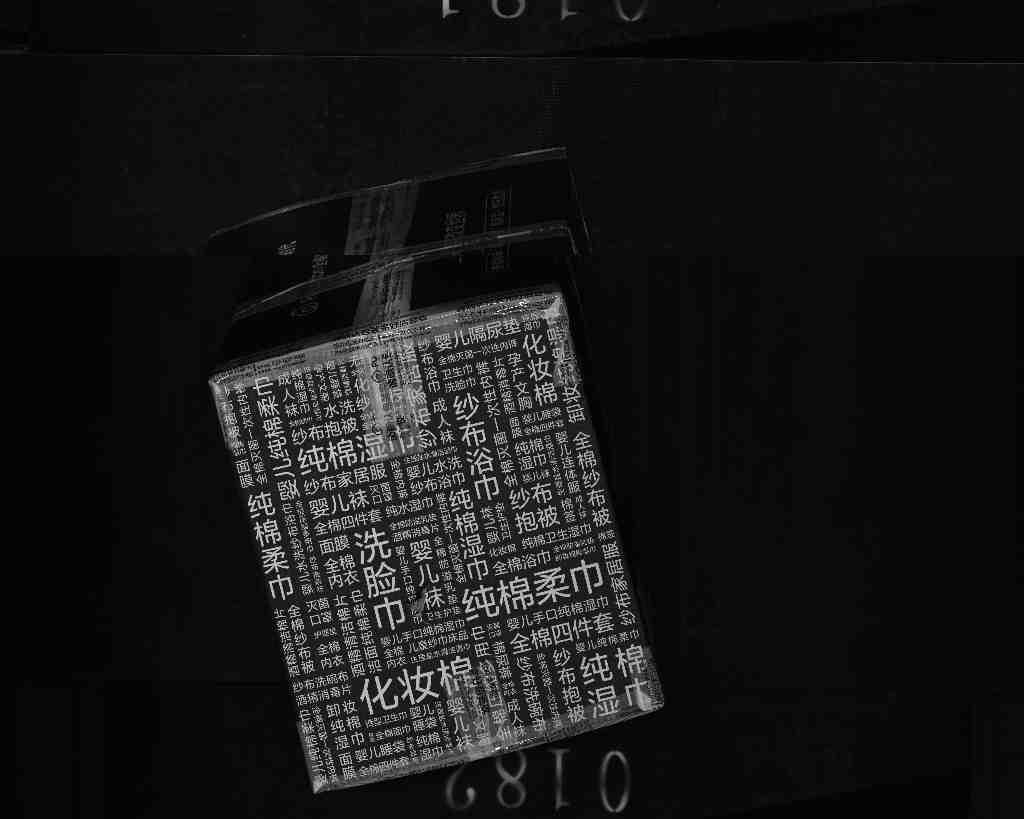box: (172, 142, 680, 799)
